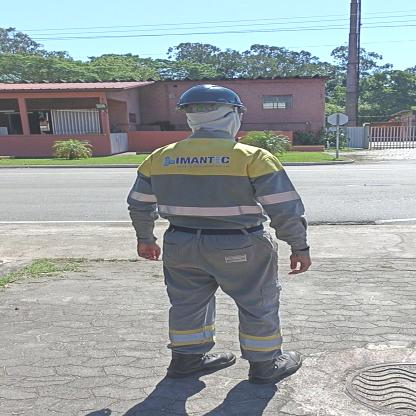Balaclava: (181, 103, 248, 136)
Capacete: (180, 82, 239, 106)
